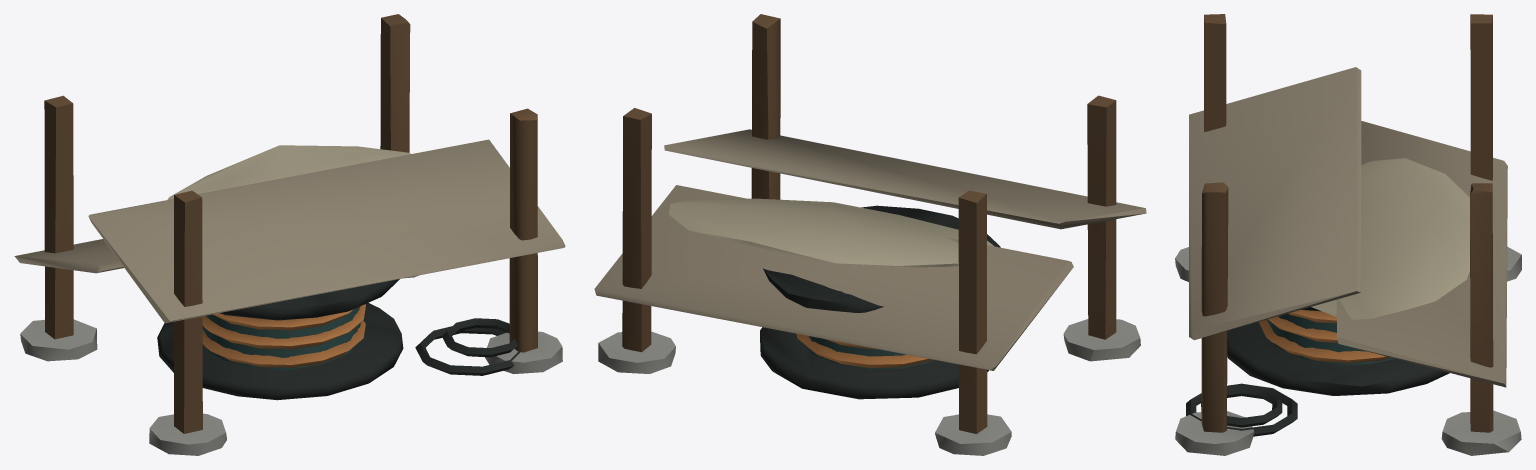
File: spool_shed_c_lod1.glb
3 renders of one model, left to right at view 1: azimuth 30°, elevation 25°; view 2: azimuth 150°, elevation 25°; view 3: azimuth 270°, elevation 25°, orthographic. The views are drawn at different scales.
Visible parts, largest first — view 1: Surface.001; view 2: Surface.001; view 3: Surface.001.
Part boxes in pixels (x1=…): Surface.001: x1=14, y1=14, x2=565, y2=455; Surface.001: x1=594, y1=14, x2=1146, y2=455; Surface.001: x1=1175, y1=14, x2=1521, y2=455.
Size of the model in its own units: 3.61 by 2.1 by 2.6.
